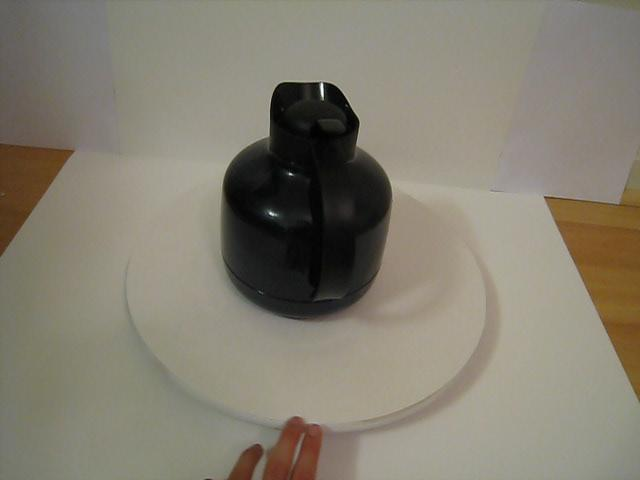pitcher: (212, 59, 398, 327)
